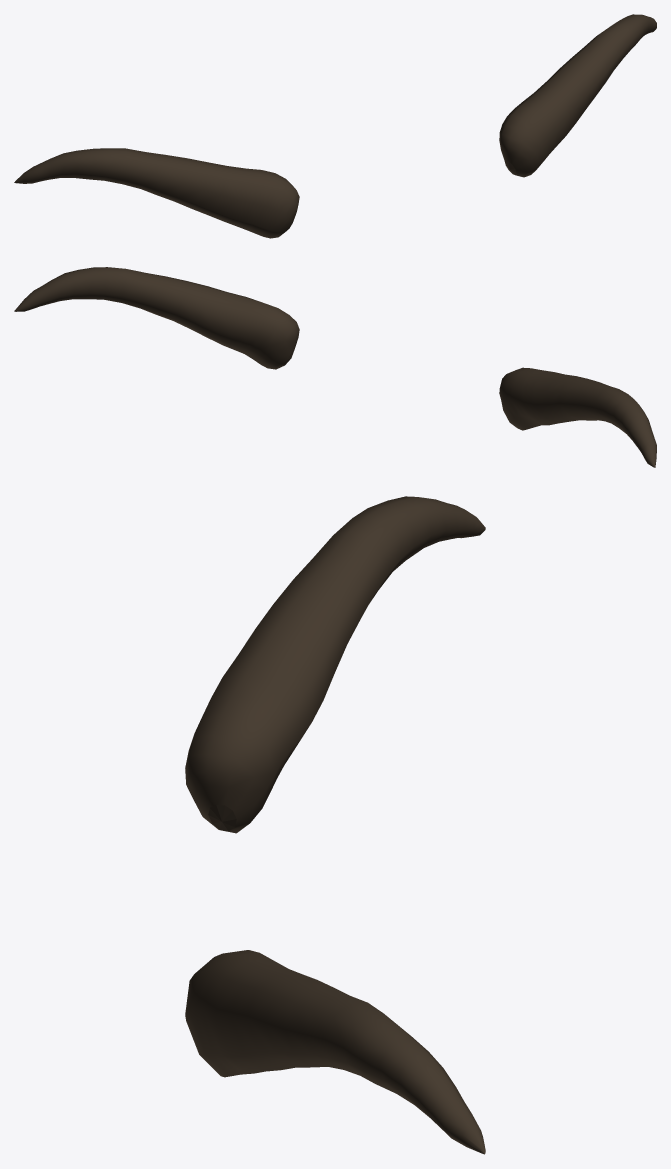
File: eyebrow_06.glb
3 renders of one model, top to bottom at view 1: azimuth 30°, elevation 25°; view 2: azimuth 150°, elevation 25°; view 3: azimuth 270°, elevation 25°, orthographic. The views are drawn at different scales.
Parts seen in each view (by area): view 1: upward2, upward1; view 2: upward1, upward2; view 3: upward2, upward1.
Boxes of the visible parts, x1=… form: upward2: x1=14, y1=148, x2=299, y2=238; upward1: x1=499, y1=14, x2=656, y2=177; upward1: x1=14, y1=267, x2=299, y2=369; upward2: x1=499, y1=367, x2=656, y2=467; upward2: x1=185, y1=496, x2=485, y2=833; upward1: x1=185, y1=950, x2=485, y2=1154.
Size of the model in its own units: 0.00582 by 0.000801 by 0.00118.
